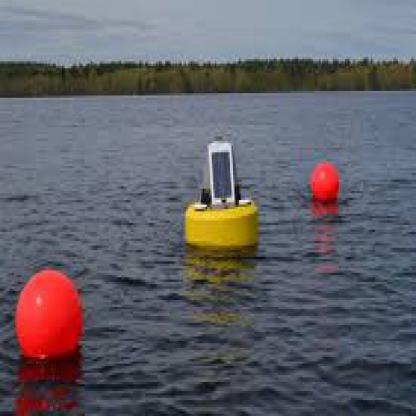buoy: (180, 125, 265, 257)
